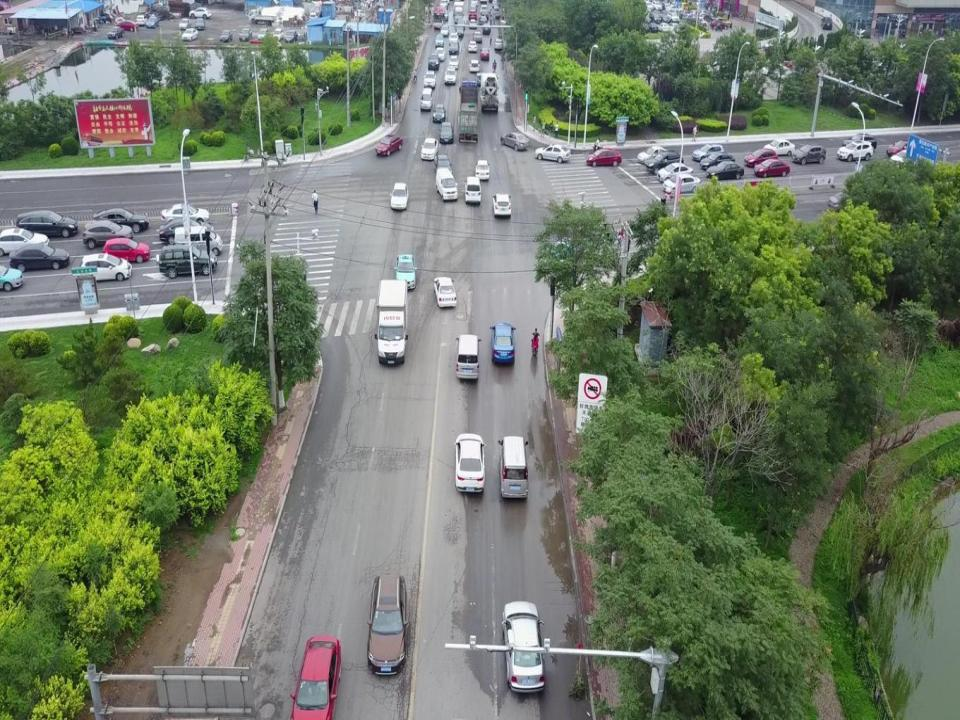bus: (433, 7, 446, 28)
car: (290, 633, 342, 720), (501, 596, 547, 694), (366, 575, 408, 677), (454, 429, 489, 498), (156, 243, 216, 277), (8, 245, 71, 270), (15, 212, 78, 237), (92, 207, 150, 234), (80, 254, 132, 284), (81, 222, 135, 249), (0, 228, 52, 255), (159, 203, 212, 227), (158, 217, 203, 243), (104, 240, 152, 264), (491, 322, 517, 366), (663, 170, 700, 196), (393, 254, 417, 289), (791, 143, 826, 166), (648, 150, 684, 172), (759, 136, 794, 158), (433, 276, 457, 308), (828, 190, 860, 214), (753, 160, 791, 180), (706, 162, 744, 182), (656, 162, 694, 182), (584, 148, 622, 168), (838, 140, 872, 162), (534, 145, 571, 164), (890, 150, 924, 170), (844, 133, 878, 153), (0, 265, 24, 293), (691, 142, 724, 162), (700, 152, 736, 170), (744, 148, 776, 168), (374, 134, 404, 154), (390, 182, 410, 211), (638, 144, 666, 164), (499, 132, 529, 150), (420, 136, 440, 162), (888, 138, 914, 158), (491, 194, 512, 217), (434, 154, 453, 179), (475, 158, 490, 182), (439, 121, 453, 145), (432, 103, 446, 122), (190, 7, 211, 18), (181, 28, 197, 42), (426, 54, 440, 70), (444, 65, 455, 85), (284, 29, 298, 44), (424, 70, 435, 89), (240, 27, 252, 44), (116, 20, 138, 29), (108, 26, 124, 38), (146, 15, 160, 28), (467, 40, 479, 54), (270, 30, 283, 42), (469, 60, 480, 74), (220, 30, 232, 42), (258, 28, 270, 40), (434, 33, 445, 46), (435, 47, 445, 61), (194, 18, 206, 29), (480, 49, 491, 61), (179, 19, 191, 29), (308, 11, 318, 23), (494, 38, 504, 50), (456, 18, 465, 31), (473, 30, 481, 44), (450, 56, 458, 70), (135, 15, 146, 25), (448, 34, 458, 45), (454, 23, 464, 34), (438, 10, 448, 21), (478, 15, 487, 26), (439, 26, 450, 35), (482, 22, 489, 34), (470, 9, 477, 21), (493, 6, 500, 18), (491, 0, 500, 9), (468, 0, 478, 8), (482, 12, 490, 21), (470, 20, 478, 29), (438, 1, 447, 8), (480, 0, 487, 8), (480, 4, 486, 13), (470, 1, 476, 9)
truck: (373, 278, 408, 366), (458, 79, 482, 142), (480, 74, 498, 110), (248, 7, 276, 26), (452, 0, 464, 24)
van: (499, 430, 530, 504), (174, 227, 223, 259), (453, 332, 481, 380), (436, 167, 458, 204), (464, 175, 480, 205), (419, 89, 432, 111)
